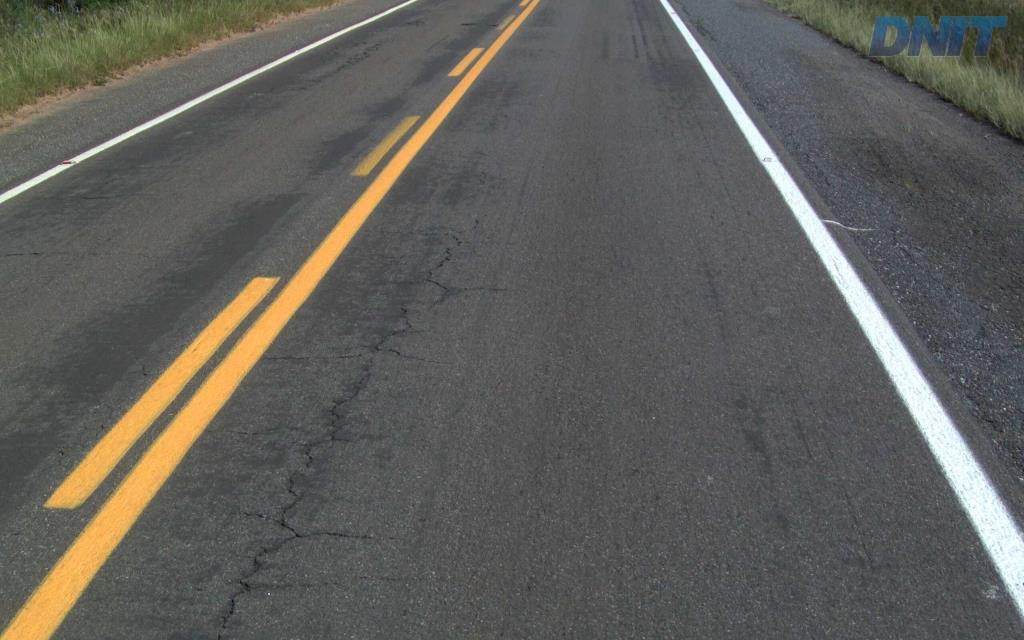crack: (260, 492, 309, 553)
